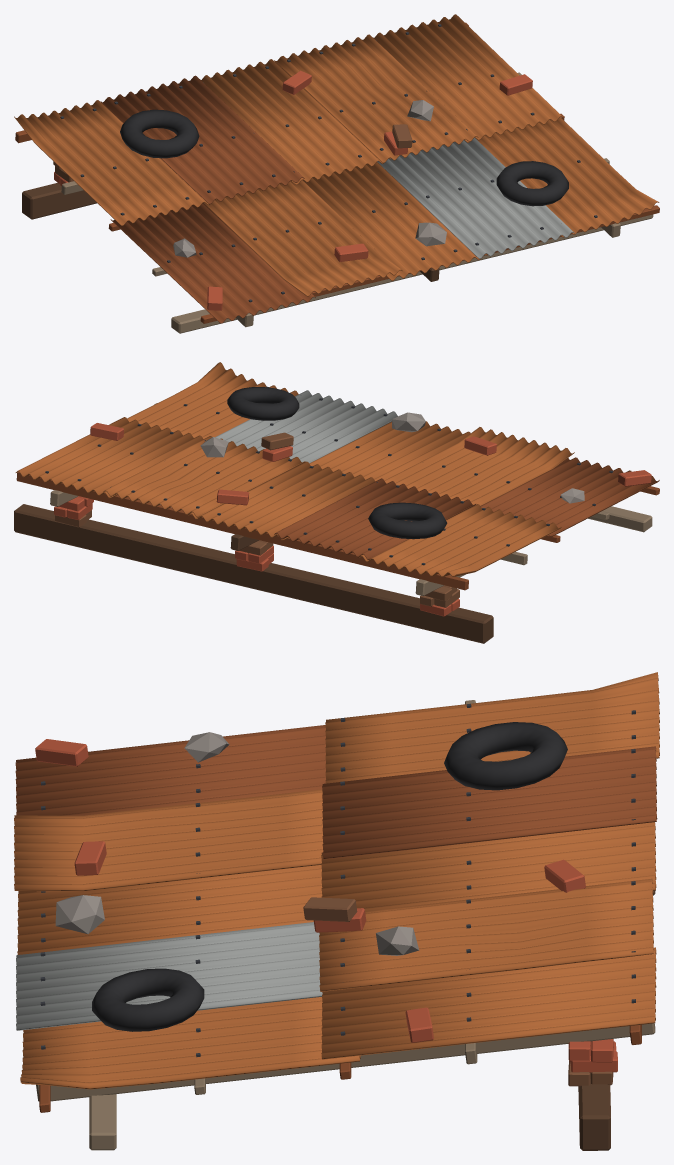
File: deco_roof_rust_flat.fbx
The picture shows the model from 3 angles, top to bottom: view 1: azimuth 30°, elevation 25°; view 2: azimuth 150°, elevation 25°; view 3: azimuth 270°, elevation 25°; orthographic projection. The views are drawn at different scales.
Parts seen in each view (by area): view 1: Roof_RustFlat_Sheets, Roof_RustFlat_Weights, Roof_RustFlat_Bearers, Roof_RustFlat_Purlins, Roof_RustFlat_Screws, Roof_RustFlat_Rafters; view 2: Roof_RustFlat_Sheets, Roof_RustFlat_Bearers, Roof_RustFlat_Weights, Roof_RustFlat_Purlins, Roof_RustFlat_Packing, Roof_RustFlat_Rafters, Roof_RustFlat_Screws; view 3: Roof_RustFlat_Sheets, Roof_RustFlat_Weights, Roof_RustFlat_Rafters, Roof_RustFlat_Bearers, Roof_RustFlat_Packing, Roof_RustFlat_Purlins, Roof_RustFlat_Screws.
Boxes of the visible parts, box(x1,y1,x2,y2) form: Roof_RustFlat_Sheets: box(14, 14, 659, 323); Roof_RustFlat_Weights: box(120, 70, 568, 310); Roof_RustFlat_Bearers: box(22, 182, 653, 333); Roof_RustFlat_Purlins: box(15, 22, 659, 323); Roof_RustFlat_Screws: box(60, 24, 597, 302); Roof_RustFlat_Rafters: box(236, 223, 620, 327); Roof_RustFlat_Sheets: box(15, 362, 659, 576); Roof_RustFlat_Bearers: box(14, 504, 652, 643); Roof_RustFlat_Weights: box(90, 387, 651, 539); Roof_RustFlat_Purlins: box(16, 403, 659, 590); Roof_RustFlat_Packing: box(54, 496, 459, 616); Roof_RustFlat_Rafters: box(50, 490, 465, 595); Roof_RustFlat_Screws: box(45, 386, 613, 565); Roof_RustFlat_Sheets: box(14, 672, 659, 1089); Roof_RustFlat_Weights: box(35, 722, 585, 1042); Roof_RustFlat_Rafters: box(36, 890, 655, 1101); Roof_RustFlat_Bearers: box(89, 1074, 610, 1150); Roof_RustFlat_Packing: box(568, 1039, 617, 1086); Roof_RustFlat_Purlins: box(39, 700, 641, 1112); Roof_RustFlat_Screws: box(40, 703, 635, 1057).
Size of the model in its own units: 441 by 76.51 by 331.
